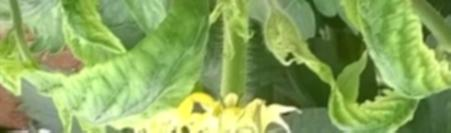Tomato leaf yellow virus: (51, 0, 213, 128), (348, 0, 449, 103)
